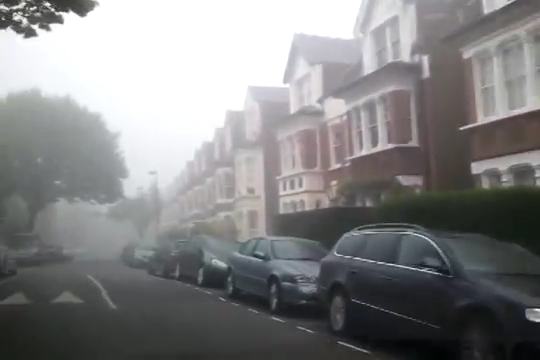car: (313, 219, 540, 359), (225, 233, 342, 316), (170, 232, 248, 287), (147, 239, 194, 278), (10, 233, 46, 265), (122, 240, 156, 268)
